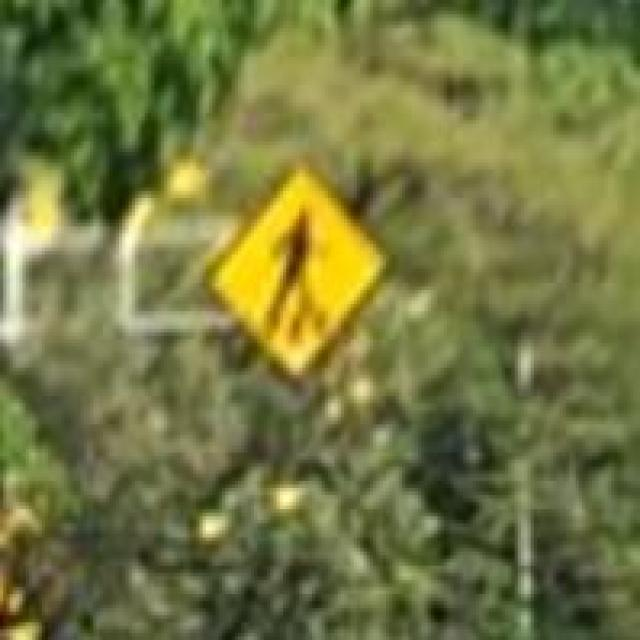traffic sign: (228, 170, 389, 378)
